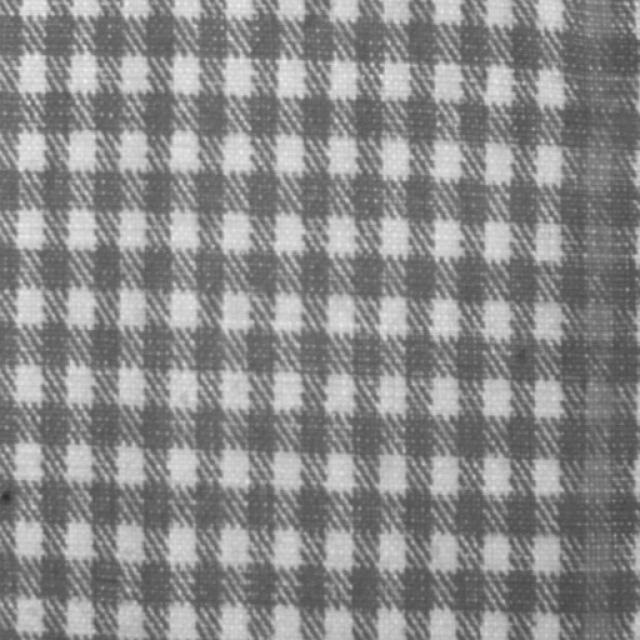Stain-Defect: (579, 0, 618, 639)
